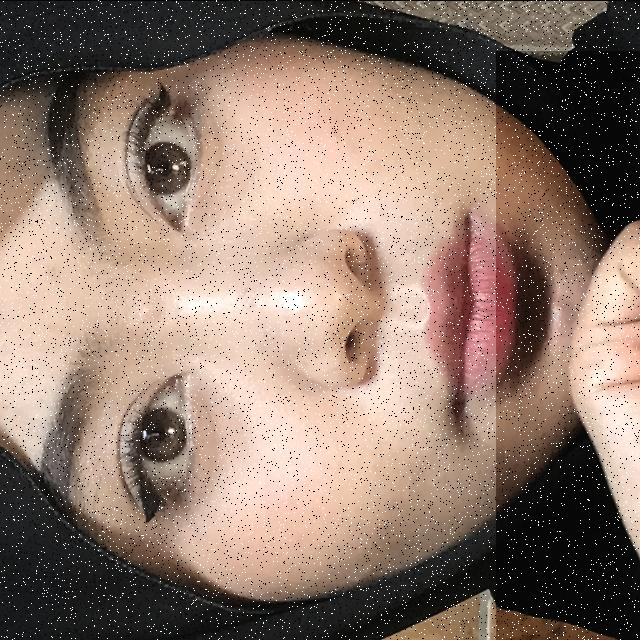sedih: (496, 50, 640, 640)
